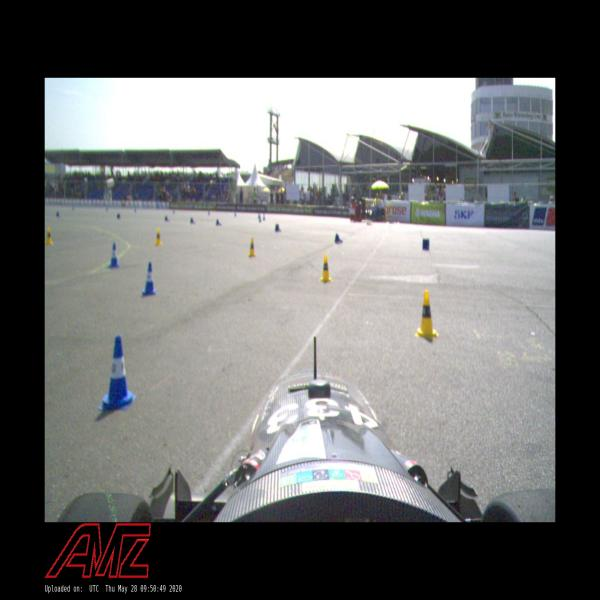blue_cone: (100, 335, 134, 411), (140, 261, 158, 297), (108, 242, 120, 269), (334, 234, 343, 244), (215, 218, 222, 226), (190, 217, 196, 225), (275, 224, 281, 232), (164, 215, 170, 222)
yellow_cone: (416, 289, 439, 340), (319, 254, 332, 284), (248, 236, 256, 258), (154, 228, 163, 246), (45, 227, 53, 246)
